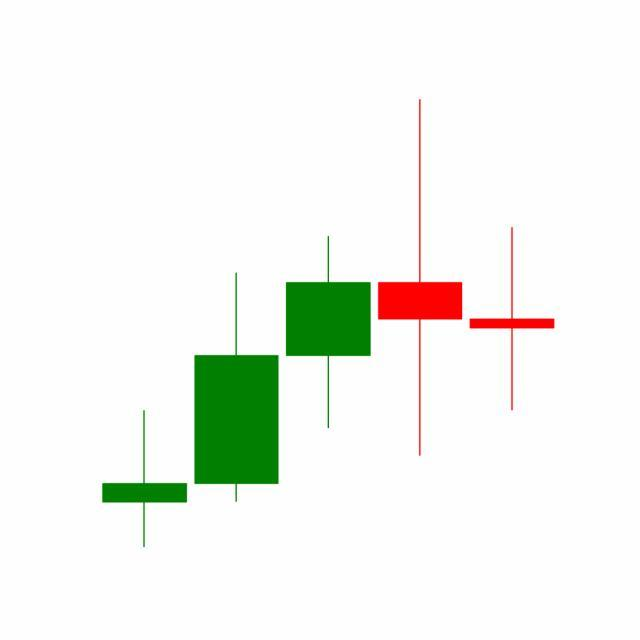Spinning Top: (374, 95, 468, 461)
